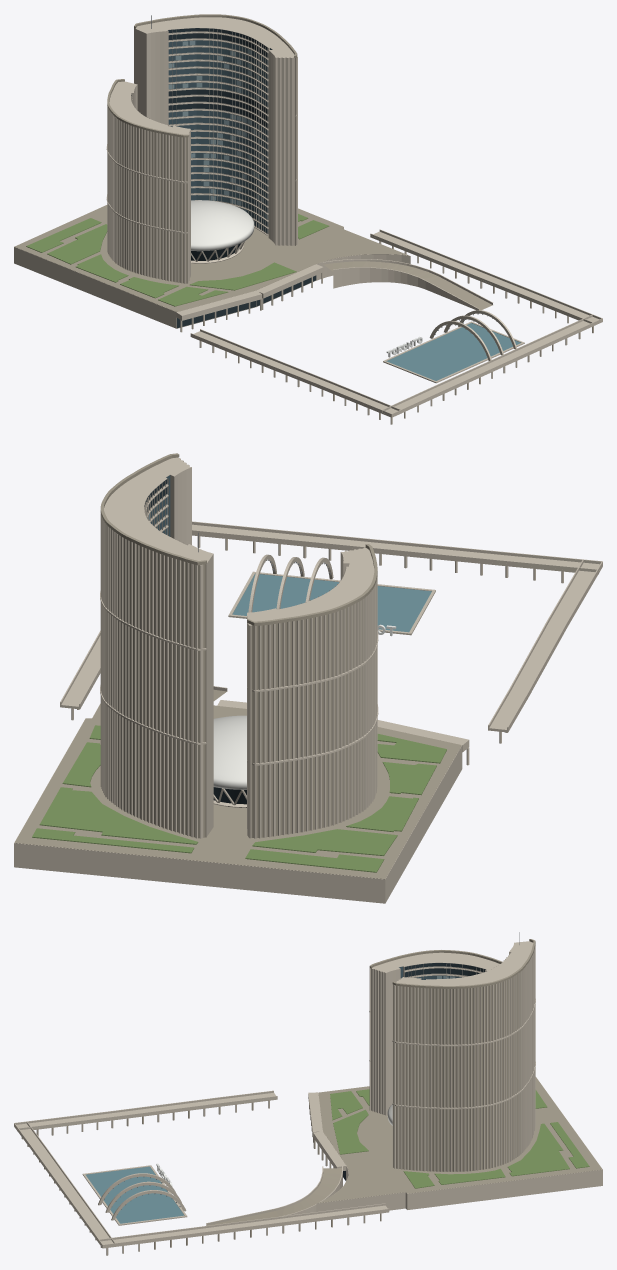
Rendered from toronto-city-hall-near.glb.
3 views of the same model, one above another, from view 1: azimuth 30°, elevation 25°; view 2: azimuth 150°, elevation 25°; view 3: azimuth 270°, elevation 25° (orthographic). The views are drawn at different scales.
Visible parts, largest first — view 1: toronto-city-hall-0-concrete, toronto-city-hall-0-concreteDark, toronto-city-hall-0-glass, toronto-city-hall-0-grass, toronto-city-hall-0-darkGlass, toronto-city-hall-0-water, toronto-city-hall-0-dome, toronto-city-hall-0-light; view 2: toronto-city-hall-0-concrete, toronto-city-hall-0-concreteDark, toronto-city-hall-0-grass, toronto-city-hall-0-water, toronto-city-hall-0-dome, toronto-city-hall-0-darkGlass; view 3: toronto-city-hall-0-concrete, toronto-city-hall-0-concreteDark, toronto-city-hall-0-grass, toronto-city-hall-0-water, toronto-city-hall-0-darkGlass.
Boxes of the visible parts, x1,y1,x2,y2 form: toronto-city-hall-0-concrete: (14,17,602,424); toronto-city-hall-0-concreteDark: (14,14,492,311); toronto-city-hall-0-glass: (168,40,271,233); toronto-city-hall-0-grass: (26,214,329,306); toronto-city-hall-0-darkGlass: (131,28,316,328); toronto-city-hall-0-water: (386,323,520,380); toronto-city-hall-0-dome: (191,200,254,251); toronto-city-hall-0-light: (168,40,267,219); toronto-city-hall-0-concrete: (14,457,602,903); toronto-city-hall-0-concreteDark: (14,453,461,879); toronto-city-hall-0-grass: (32,725,446,872); toronto-city-hall-0-water: (232,573,431,632); toronto-city-hall-0-dome: (213,715,246,789); toronto-city-hall-0-darkGlass: (144,479,246,804); toronto-city-hall-0-concrete: (14,941,602,1255); toronto-city-hall-0-concreteDark: (206,939,602,1225); toronto-city-hall-0-grass: (330,1089,589,1188); toronto-city-hall-0-water: (86,1166,184,1223); toronto-city-hall-0-darkGlass: (343,963,485,1180).
Bounding box in the file's own units: 187 × 105 × 264.
